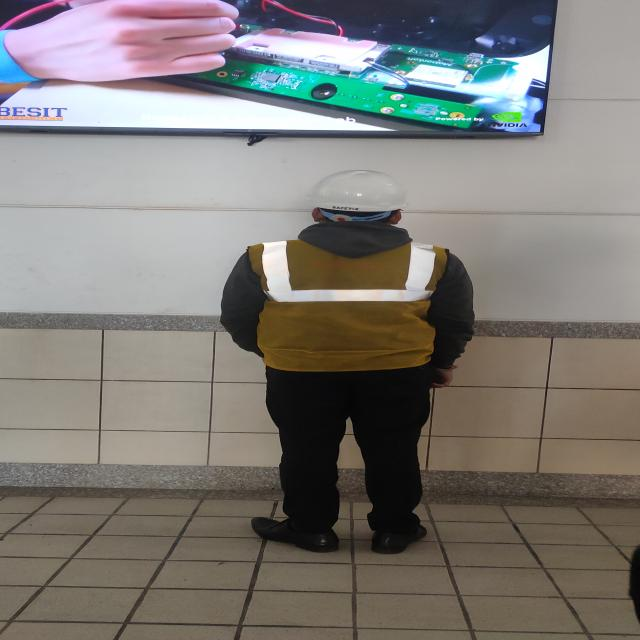safe: (221, 170, 474, 553)
